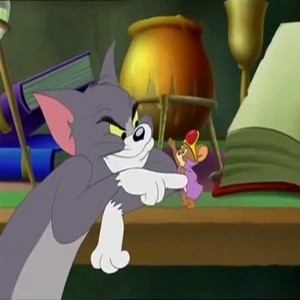Jerry: (169, 129, 213, 205)
